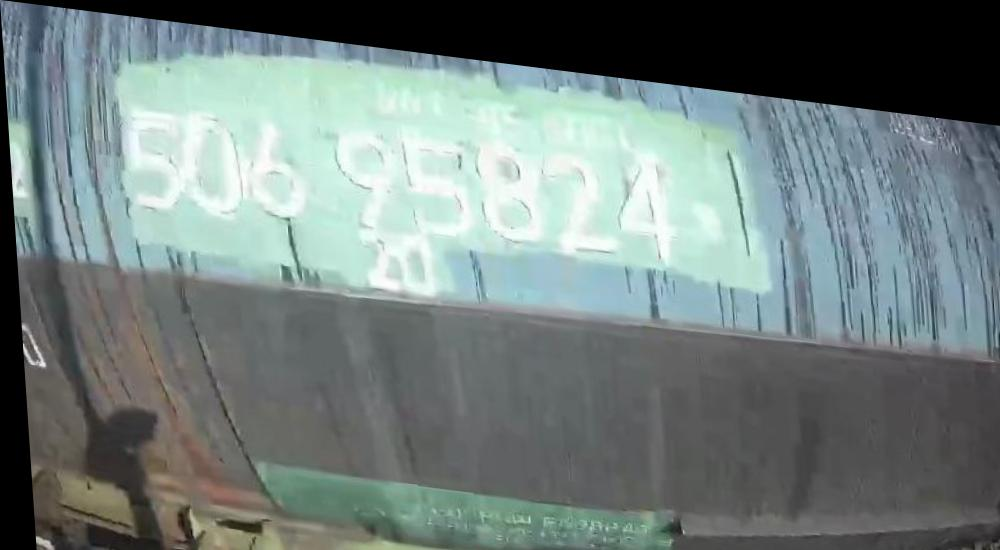Wagon-number: (118, 90, 679, 263)
